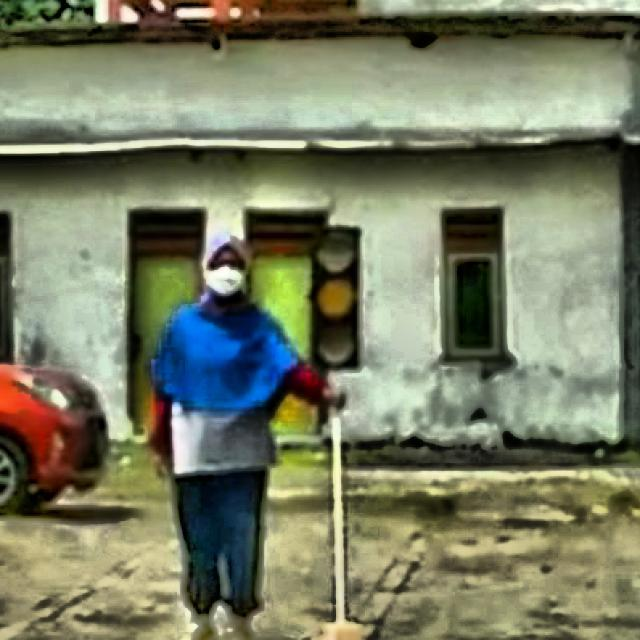yellow: (311, 227, 364, 362)
